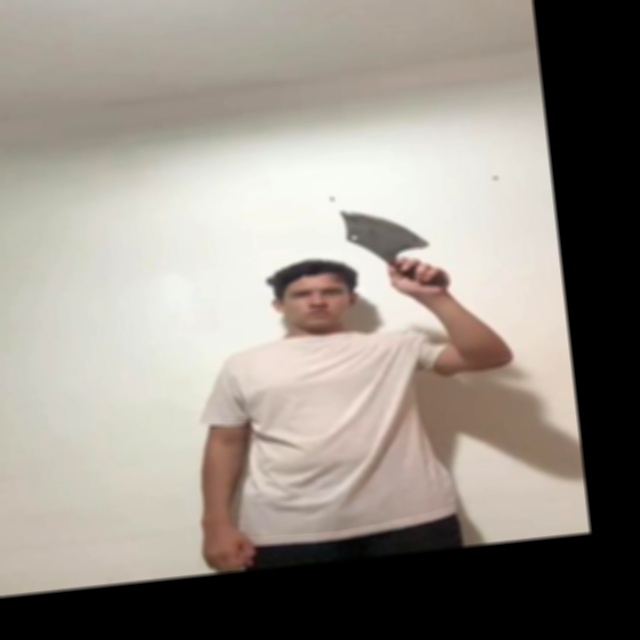Sharp-Object: (338, 201, 427, 259)
